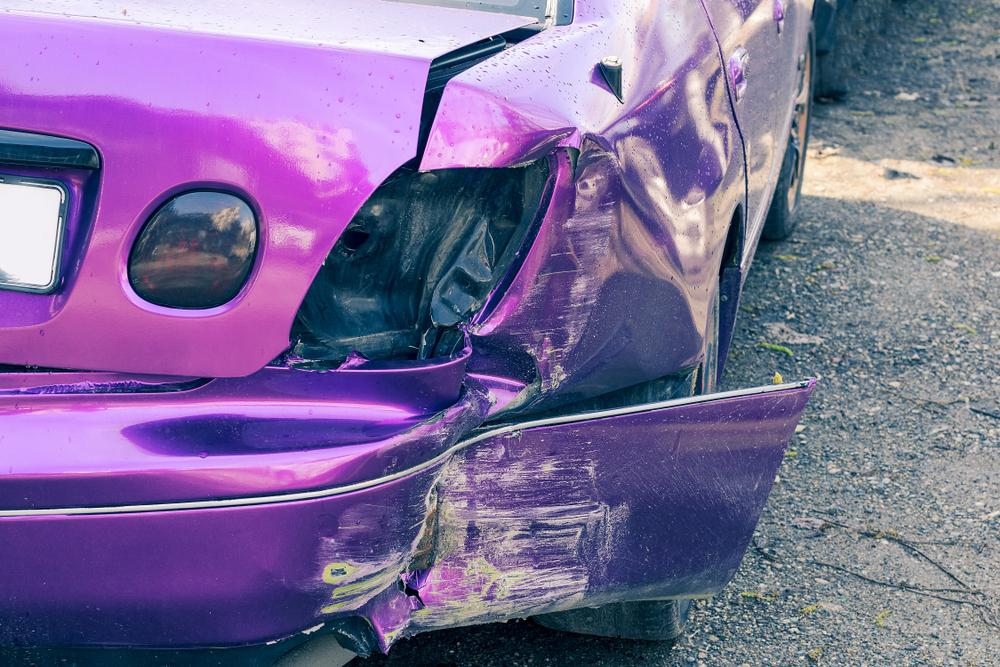crack: (396, 579, 427, 609)
scratch: (312, 436, 619, 645), (482, 136, 617, 388)
